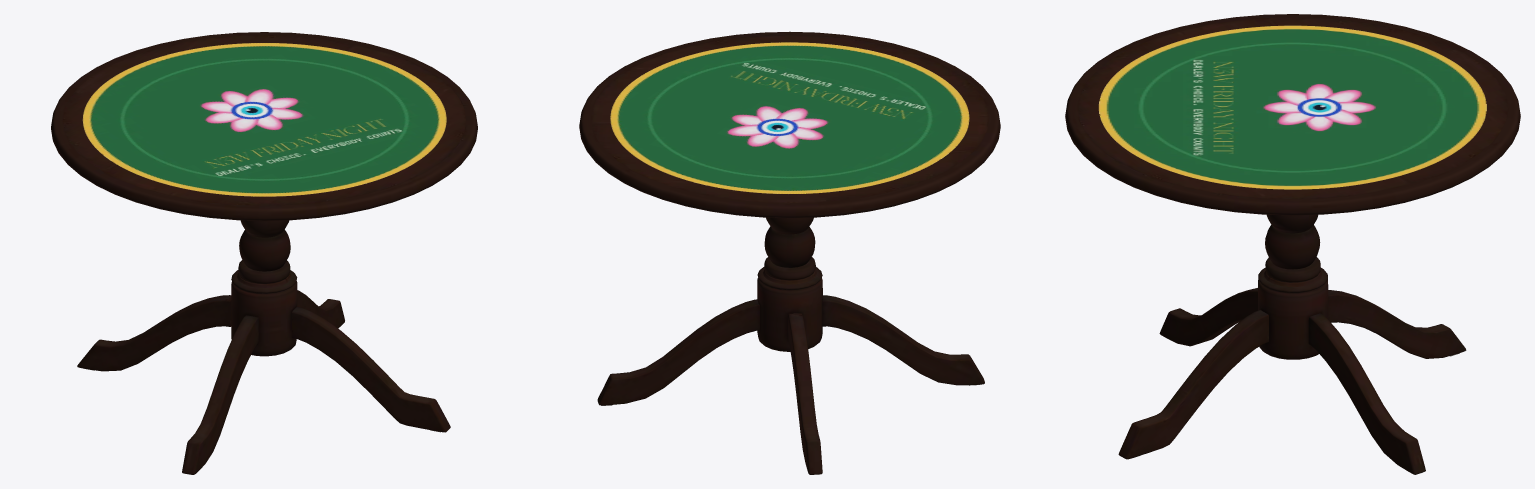
Rendered from poker_table.glb.
3 renders of one model, left to right at view 1: azimuth 30°, elevation 25°; view 2: azimuth 150°, elevation 25°; view 3: azimuth 270°, elevation 25°, orthographic. The views are drawn at different scales.
Visible parts, largest first — view 1: stk_b5_felt.png, round_wooden_table_01; view 2: stk_b5_felt.png, round_wooden_table_01; view 3: stk_b5_felt.png, round_wooden_table_01.
Part boxes in pixels (box(x1,y1,x2,y2)): stk_b5_felt.png: box(82, 43, 446, 196); round_wooden_table_01: box(51, 32, 477, 474); stk_b5_felt.png: box(610, 42, 969, 193); round_wooden_table_01: box(579, 31, 1000, 474); stk_b5_felt.png: box(1098, 25, 1486, 189); round_wooden_table_01: box(1065, 14, 1520, 474).
Size of the model in its own units: 1.4 by 1.01 by 1.4.
Materials: 2 (2 with a texture image).
